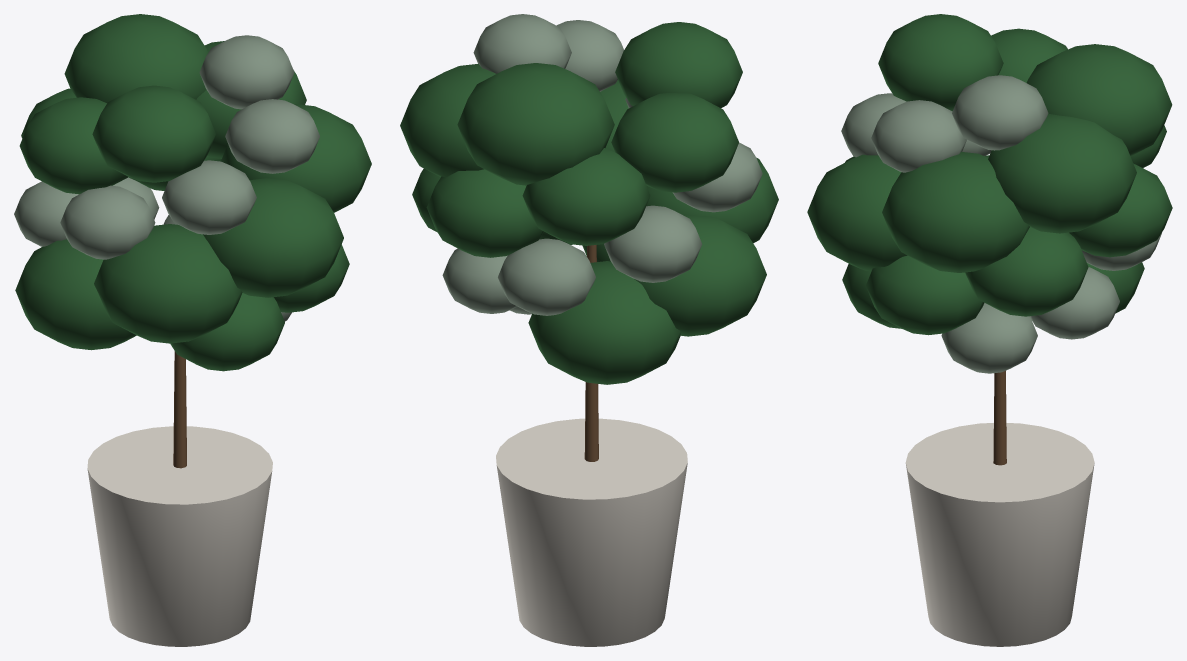
The model's file is plante-monstera-truffaut.glb.
3 renders of one model, left to right at view 1: azimuth 30°, elevation 25°; view 2: azimuth 150°, elevation 25°; view 3: azimuth 270°, elevation 25°, orthographic. The views are drawn at different scales.
Visible parts, largest first — view 1: produit; view 2: produit; view 3: produit.
Boxes of the visible parts, x1=… form: produit: x1=14, y1=14, x2=371, y2=646; produit: x1=400, y1=14, x2=778, y2=646; produit: x1=807, y1=14, x2=1172, y2=646.
Bounding box in the file's own units: 0.4148 × 0.6971 × 0.4061.
